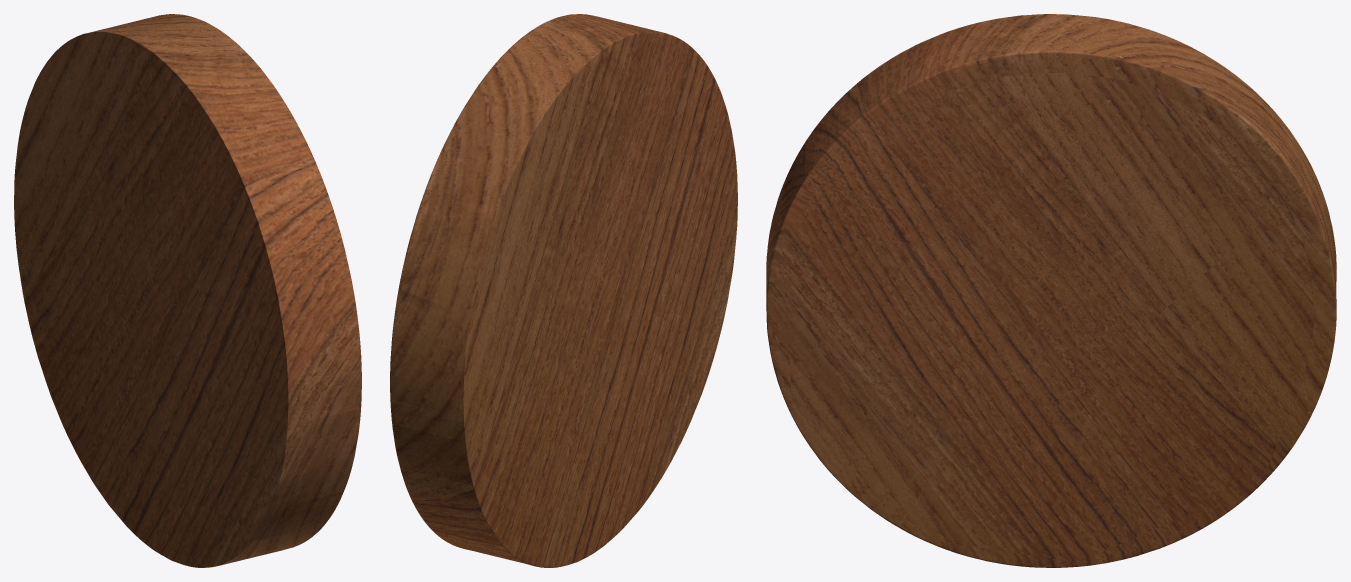
File: clock.fbx
3 views of the same model, side by side, from view 1: azimuth 30°, elevation 25°; view 2: azimuth 150°, elevation 25°; view 3: azimuth 270°, elevation 25° (orthographic). The views are drawn at different scales.
Parts seen in each view (by area): view 1: Cylinder.002; view 2: Cylinder.002; view 3: Cylinder.002.
Boxes of the visible parts, x1=… form: Cylinder.002: x1=14, y1=14, x2=361, y2=567; Cylinder.002: x1=390, y1=14, x2=737, y2=567; Cylinder.002: x1=766, y1=14, x2=1336, y2=567.
Size of the model in its own units: 0.3116 by 1.99 by 1.99.
5 materials, 2 textured.
